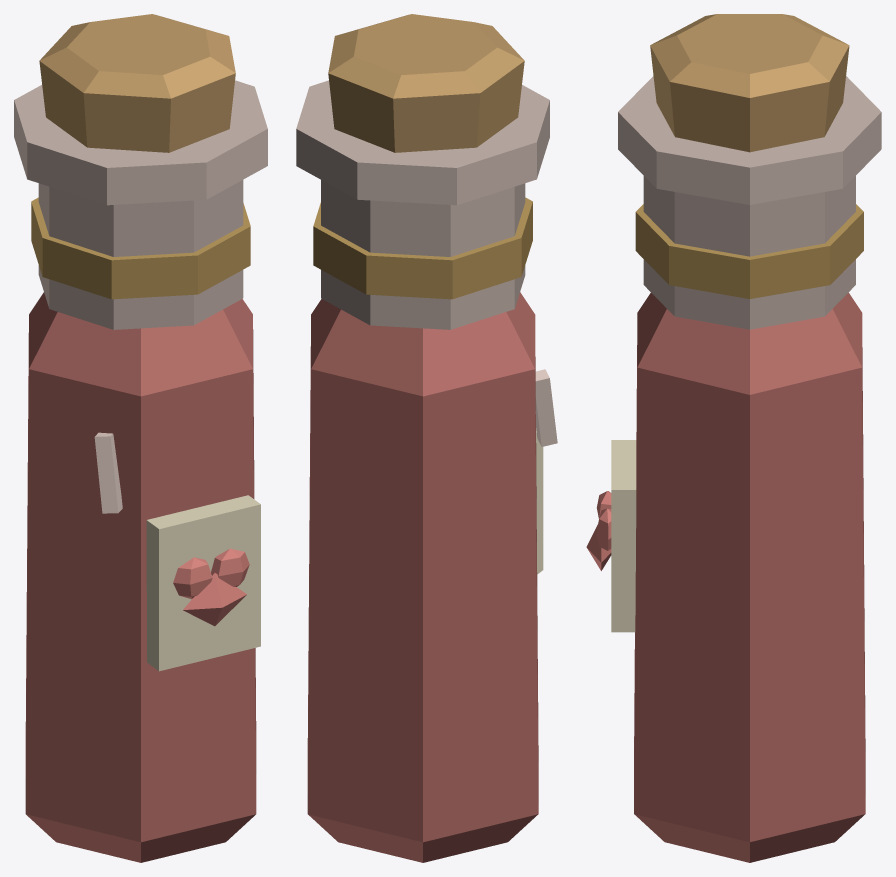
File: item_potion_health_minor.glb
3 renders of one model, left to right at view 1: azimuth 30°, elevation 25°; view 2: azimuth 150°, elevation 25°; view 3: azimuth 270°, elevation 25°, orthographic.
Parts seen in each view (by area): view 1: item_potion_health_minor; view 2: item_potion_health_minor; view 3: item_potion_health_minor.
Part boxes in pixels (x1,y1,x2,y2): item_potion_health_minor: [14, 14, 267, 862]; item_potion_health_minor: [296, 14, 557, 862]; item_potion_health_minor: [586, 14, 881, 862].
Size of the model in its own units: 0.1292 by 0.4152 by 0.1426.
